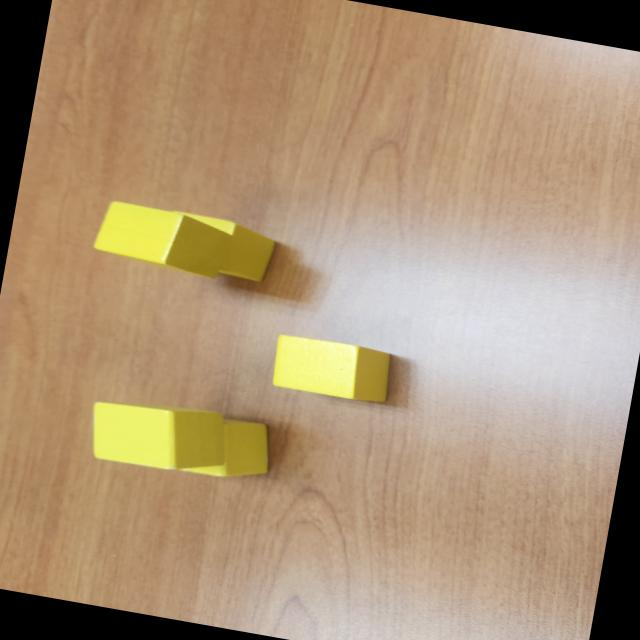yellow: (83, 389, 235, 482), (88, 198, 234, 282), (265, 330, 397, 408), (159, 210, 280, 290), (170, 408, 278, 487)
